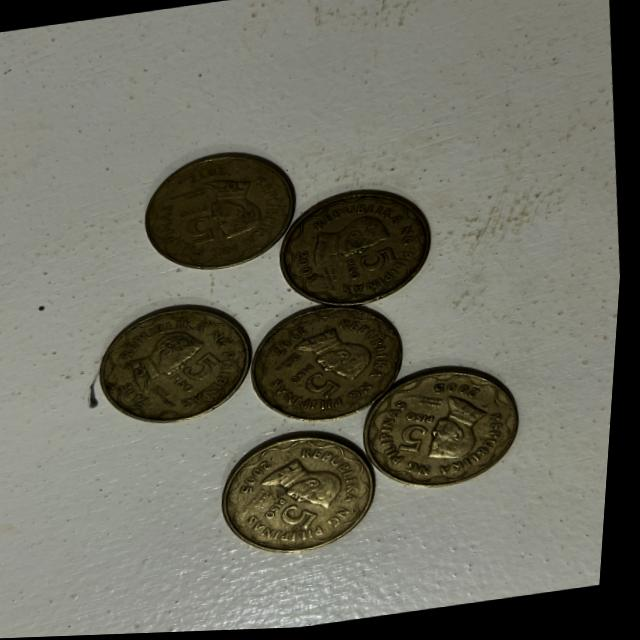5_Old_Front: (171, 349, 243, 400), (261, 488, 334, 537), (384, 402, 444, 458), (332, 245, 404, 288), (166, 198, 224, 251), (293, 355, 346, 409)
